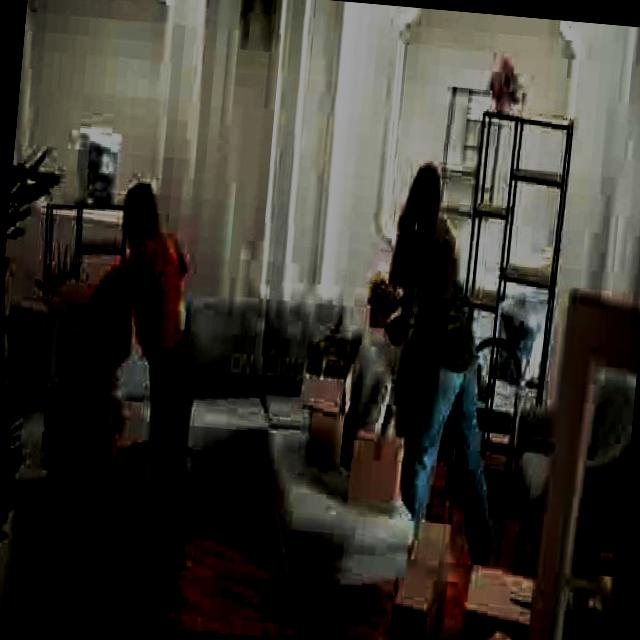Box: (46, 449, 144, 608), (392, 503, 456, 640), (297, 368, 361, 474), (463, 568, 533, 638), (346, 442, 412, 515), (54, 312, 120, 384), (52, 385, 105, 449)
